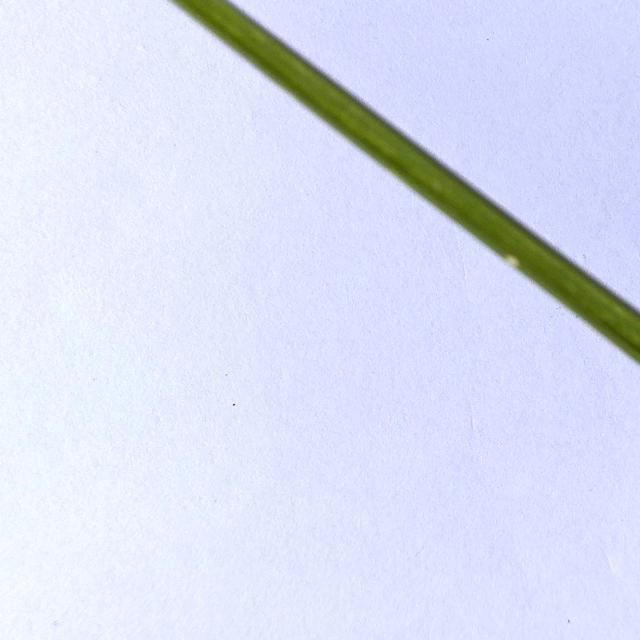Blast: (506, 248, 526, 272)
